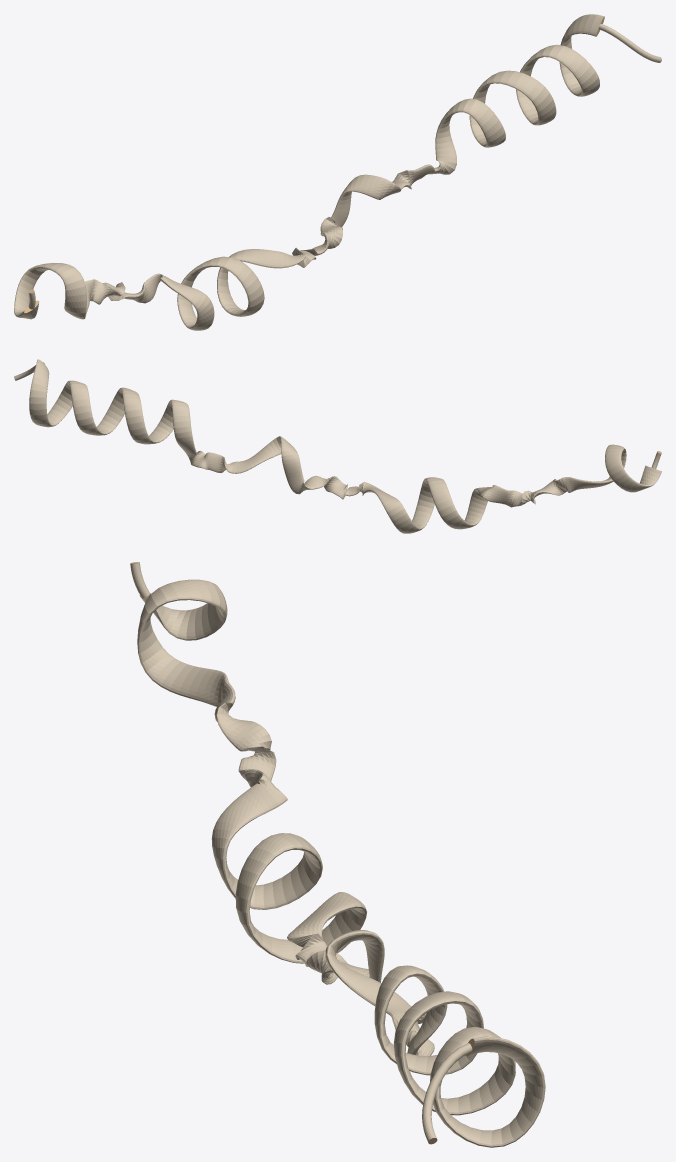
The model's file is HelixrCoil.dae.
3 views of the same model, one above another, from view 1: azimuth 30°, elevation 25°; view 2: azimuth 150°, elevation 25°; view 3: azimuth 270°, elevation 25° (orthographic). The views are drawn at different scales.
Visible parts, largest first — view 1: Shape_IndexedTriangleStripSet_041; view 2: Shape_IndexedTriangleStripSet_041; view 3: Shape_IndexedTriangleStripSet_041.
Part boxes in pixels (box(x1,y1,x2,y2)): Shape_IndexedTriangleStripSet_041: box(14, 14, 661, 330); Shape_IndexedTriangleStripSet_041: box(14, 359, 661, 533); Shape_IndexedTriangleStripSet_041: box(130, 562, 545, 1147).
Size of the model in its own units: 68.12 by 21.31 by 13.89.
